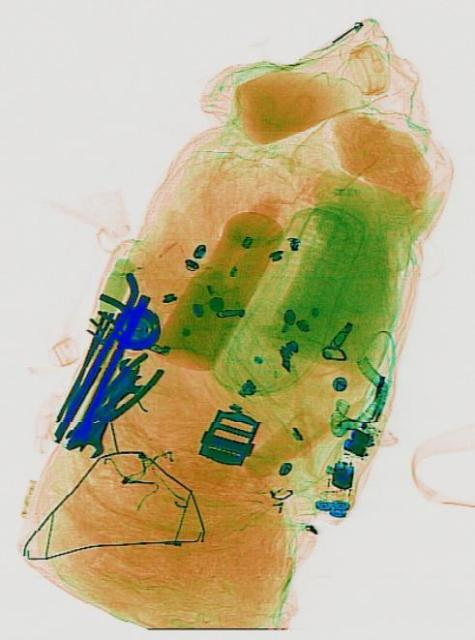Wrench: (72, 352, 143, 463)
